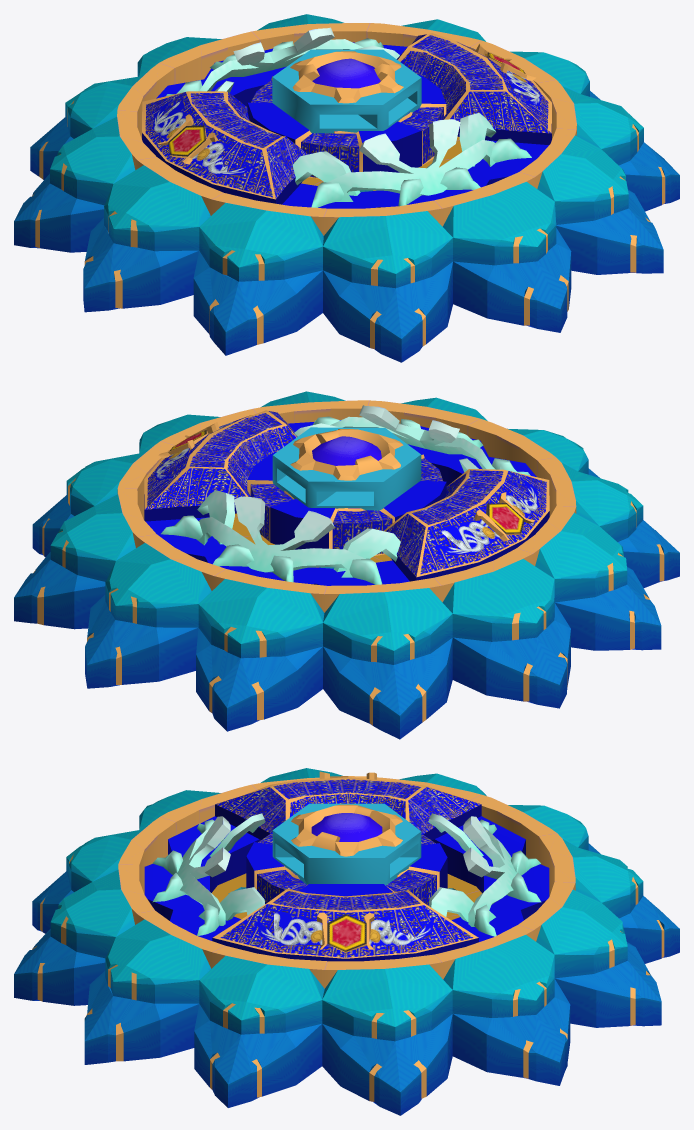
File: Com3d_BbAI_kraken_N000out.obj
The picture shows the model from 3 angles, top to bottom: view 1: azimuth 30°, elevation 25°; view 2: azimuth 150°, elevation 25°; view 3: azimuth 270°, elevation 25°; orthographic projection.
Visible parts, largest first — view 1: Com3d_BbAI_kraken_N000out; view 2: Com3d_BbAI_kraken_N000out; view 3: Com3d_BbAI_kraken_N000out.
Boxes of the visible parts, x1,y1,x2,y2 form: Com3d_BbAI_kraken_N000out: (14, 14, 679, 362); Com3d_BbAI_kraken_N000out: (14, 391, 679, 739); Com3d_BbAI_kraken_N000out: (14, 768, 679, 1115).
Size of the model in its own units: 31.71 by 9.08 by 31.71.
1 material, 1 textured.
